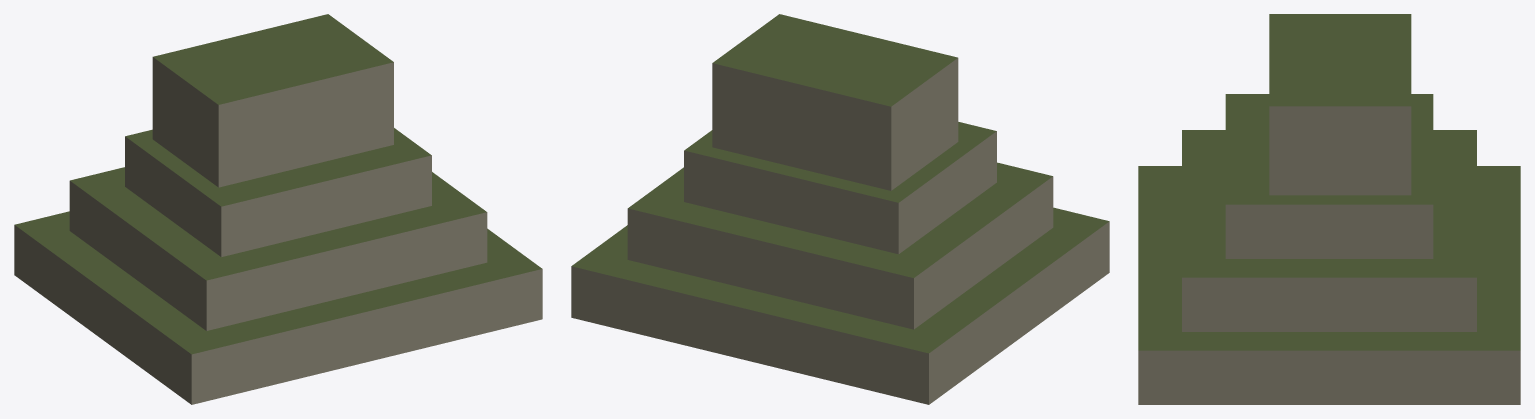
The model's file is ruin-temple-b.tone-v1.lod2.glb.
3 views of the same model, side by side, from view 1: azimuth 30°, elevation 25°; view 2: azimuth 150°, elevation 25°; view 3: azimuth 270°, elevation 25° (orthographic). The views are drawn at different scales.
Visible parts, largest first — view 1: ruin-temple-b; view 2: ruin-temple-b; view 3: ruin-temple-b.
Boxes of the visible parts, x1,y1,x2,y2 form: ruin-temple-b: [14, 14, 542, 404]; ruin-temple-b: [571, 14, 1109, 404]; ruin-temple-b: [1138, 14, 1520, 404].
Size of the model in its own units: 16 by 10.2 by 14.
